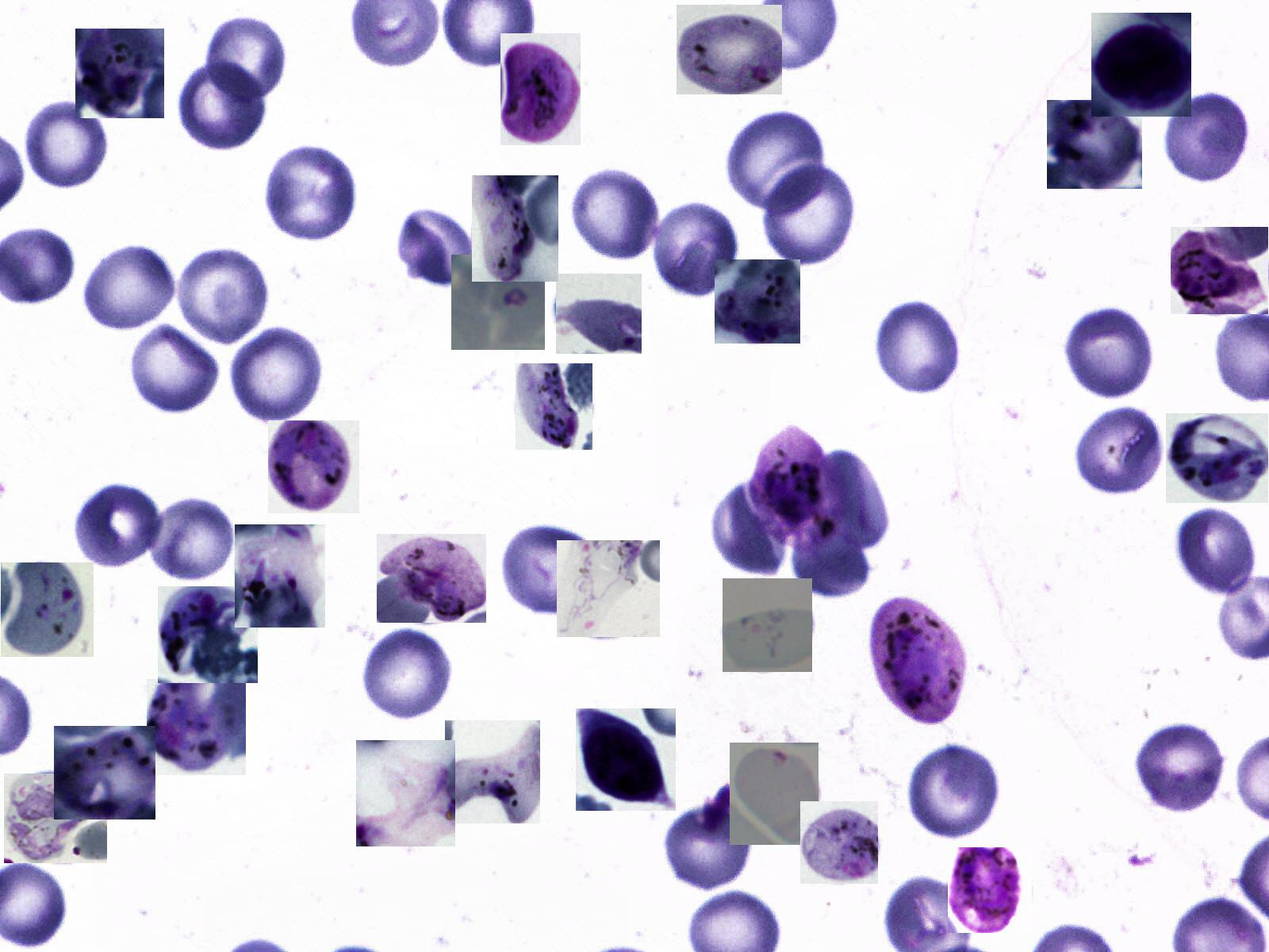Infected: (869, 597, 967, 724), (750, 424, 842, 551), (356, 740, 455, 846), (1091, 13, 1191, 117), (576, 708, 676, 811), (557, 540, 660, 637), (445, 720, 540, 823), (377, 534, 486, 623), (158, 586, 258, 683), (147, 680, 246, 776), (54, 726, 155, 820), (235, 524, 325, 628), (677, 5, 782, 94), (472, 175, 558, 282), (1166, 413, 1268, 503), (4, 774, 107, 863), (730, 743, 819, 845), (500, 33, 581, 145), (451, 255, 545, 350), (1, 562, 94, 657), (268, 420, 359, 513), (1047, 100, 1142, 189), (1171, 228, 1268, 315), (723, 578, 812, 672), (75, 29, 164, 118), (715, 259, 800, 344), (948, 847, 1032, 933), (556, 274, 642, 354), (516, 363, 592, 450), (800, 801, 878, 884)
Uninfected: (726, 112, 826, 214), (174, 56, 272, 152), (500, 525, 602, 616), (177, 248, 269, 347), (263, 147, 358, 242), (359, 628, 456, 720), (570, 165, 661, 263), (765, 166, 853, 267), (1067, 301, 1157, 397), (1072, 404, 1164, 497), (874, 300, 964, 395), (1162, 90, 1252, 185), (230, 328, 321, 420), (652, 202, 742, 295), (82, 244, 178, 331), (1132, 726, 1227, 812), (201, 14, 292, 103), (22, 100, 111, 190), (664, 800, 750, 893), (129, 325, 218, 414), (74, 479, 163, 566), (911, 748, 997, 836), (148, 500, 236, 581), (1178, 505, 1256, 595), (712, 482, 786, 575), (822, 448, 886, 551), (397, 209, 476, 287), (793, 521, 870, 597)
